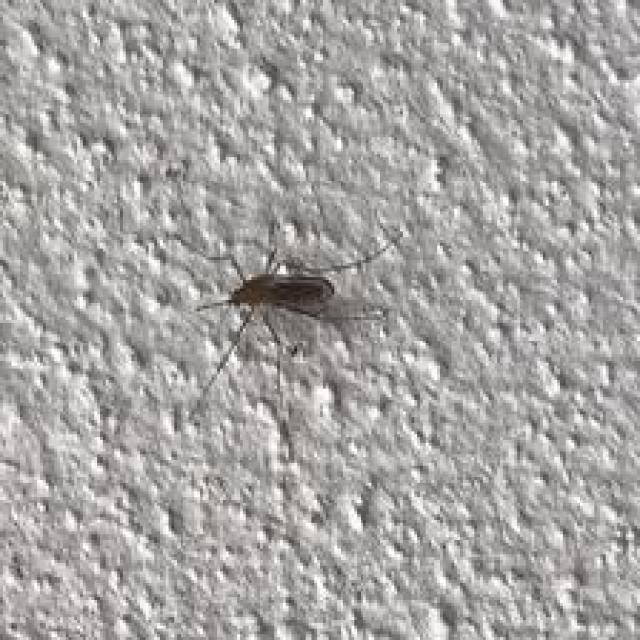Culex: (168, 219, 403, 430)
